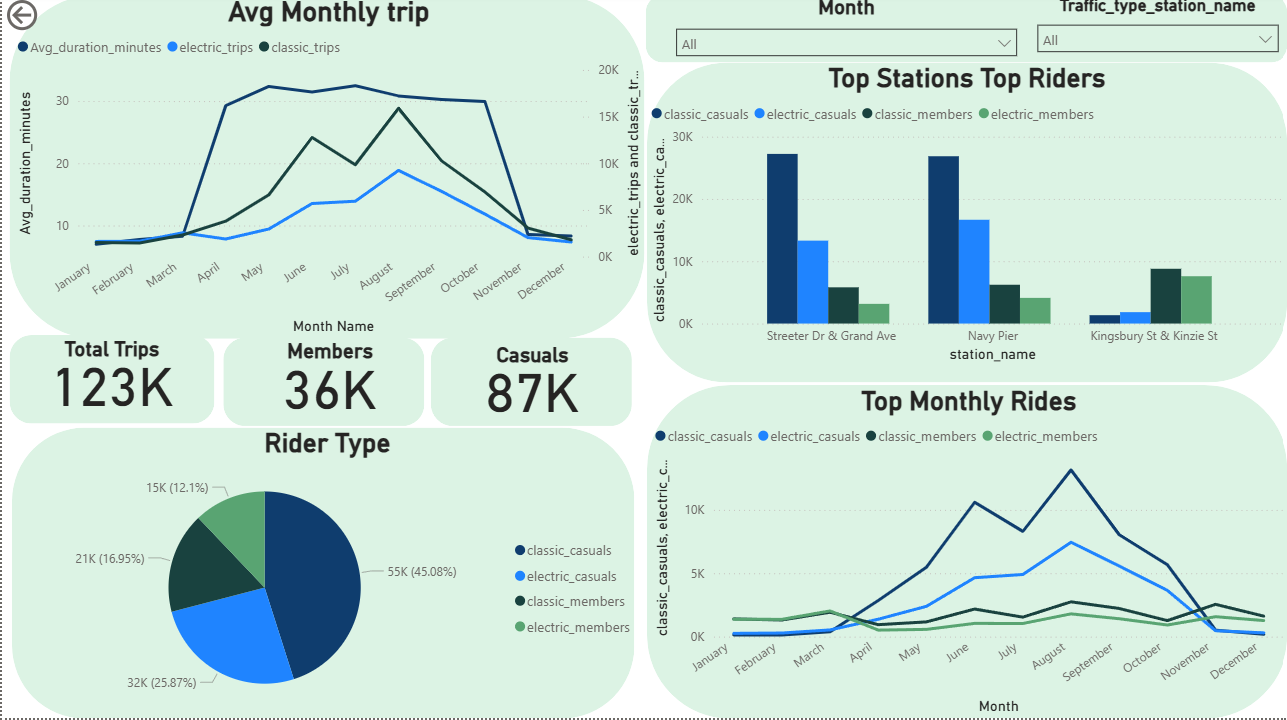

This screenshot's page, from the dashboard's own definition file:
{"tool":"powerbi","page":{"name":"top_station_memers_casuals","canvas":[1280,720],"ordinal":0},"visuals":[{"type":"shape","box":[7.6,0,631.9,342.1],"z":0,"group":"g1"},{"type":"shape","box":[426.7,340.8,200.3,88.3],"z":0},{"type":"shape","box":[642.5,67.2,638.2,318.5],"z":1000,"group":"g1"},{"type":"shape","box":[220.2,340.8,200.3,88.3],"z":1000},{"type":"group","id":"g1","title":"Group 1","box":[7.6,0,1273.1,720.3],"z":2000},{"type":"shape","box":[10,430.4,619.5,289.8],"z":2000,"group":"g1"},{"type":"shape","box":[7.5,338.4,204,88.3],"z":3000},{"type":"shape","box":[642.5,388.1,638.2,332.1],"z":3000,"group":"g1"},{"type":"shape","box":[641.3,0,639.4,67.2],"z":4000,"group":"g1"},{"type":"card","title":"Total Trips","fields":{"Values":["Sum(fact_monthly_traffic_tops (2).total_trips)"]},"box":[14.9,339.6,189.1,85.8],"z":4000},{"type":"lineChart","title":"Avg Monthly trip","fields":{"Category":["fact_monthly_traffic_tops (2).Month Name"],"Y":["Avg(fact_monthly_traffic_tops (2).average_duration_minutes)"],"Y2":["Sum(fact_monthly_traffic_tops (2).electric_trips)","Sum(fact_monthly_traffic_tops (2).classic_trips)"]},"box":[10,0,630.7,342.1],"z":5000},{"type":"slicer","title":"Traffic_type_station_name","fields":{"Values":["fact_monthly_traffic_tops (2).traffic_type","fact_monthly_traffic_tops (2).station_name"]},"box":[1020.3,0,260.1,83.4],"z":6000},{"type":"pieChart","title":"Rider Type","fields":{"Y":["Sum(fact_monthly_traffic_tops (2).classic_casuals)","Sum(fact_monthly_traffic_tops (2).electric_casuals)","Sum(fact_monthly_traffic_tops (2).classic_members)","Sum(fact_monthly_traffic_tops (2).electric_members)"]},"box":[8.7,430.4,630.7,288.6],"z":7000},{"type":"clusteredColumnChart","title":"Top Stations Top Riders","fields":{"Category":["fact_monthly_traffic_tops (2).station_name"],"Y":["Sum(fact_monthly_traffic_tops (2).classic_casuals)","Sum(fact_monthly_traffic_tops (2).electric_casuals)","Sum(fact_monthly_traffic_tops (2).classic_members)","Sum(fact_monthly_traffic_tops (2).electric_members)"]},"box":[640.6,67.2,639.4,303.5],"z":8000},{"type":"lineChart","title":"Top Monthly Rides","fields":{"Category":["fact_monthly_traffic_tops (2).Month Name"],"Y":["Sum(fact_monthly_traffic_tops (2).classic_casuals)","Sum(fact_monthly_traffic_tops (2).electric_casuals)","Sum(fact_monthly_traffic_tops (2).classic_members)","Sum(fact_monthly_traffic_tops (2).electric_members)"]},"box":[644.4,388.1,635.7,332.1],"z":9000},{"type":"slicer","title":"Month","fields":{"Values":["fact_monthly_traffic_tops (2).Month Name"]},"box":[660.1,0,359.7,66.4],"z":10000},{"type":"actionButton","box":[0,0,100,40],"z":11000},{"type":"card","title":"Members","fields":{"Values":["Sum(fact_monthly_traffic_tops (2).members)"]},"box":[220.2,342.1,212.7,85.8],"z":12000},{"type":"card","title":"Casuals","fields":{"Values":["Sum(fact_monthly_traffic_tops (2).Casuals)"]},"box":[421.7,345.8,212.7,85.8],"z":13000}]}

Visuals, with their boxes in screenshot pixels (x1, y1, x2, y2), scaled from the page's 1280x720 canvas onto the 1287x720 screenshot:
shape: x1=8, y1=0, x2=643, y2=342
shape: x1=429, y1=341, x2=630, y2=429
shape: x1=646, y1=67, x2=1286, y2=386
shape: x1=221, y1=341, x2=423, y2=429
"Group 1" group: x1=8, y1=0, x2=1286, y2=719
shape: x1=10, y1=430, x2=633, y2=719
shape: x1=8, y1=338, x2=213, y2=427
shape: x1=646, y1=388, x2=1286, y2=719
shape: x1=645, y1=0, x2=1286, y2=67
"Total Trips" card: x1=15, y1=340, x2=205, y2=425
"Avg Monthly trip" lineChart: x1=10, y1=0, x2=644, y2=342
"Traffic_type_station_name" slicer: x1=1026, y1=0, x2=1286, y2=83
"Rider Type" pieChart: x1=9, y1=430, x2=643, y2=719
"Top Stations Top Riders" clusteredColumnChart: x1=644, y1=67, x2=1286, y2=371
"Top Monthly Rides" lineChart: x1=648, y1=388, x2=1286, y2=719
"Month" slicer: x1=664, y1=0, x2=1025, y2=66
actionButton: x1=0, y1=0, x2=101, y2=40
"Members" card: x1=221, y1=342, x2=435, y2=428
"Casuals" card: x1=424, y1=346, x2=638, y2=432
